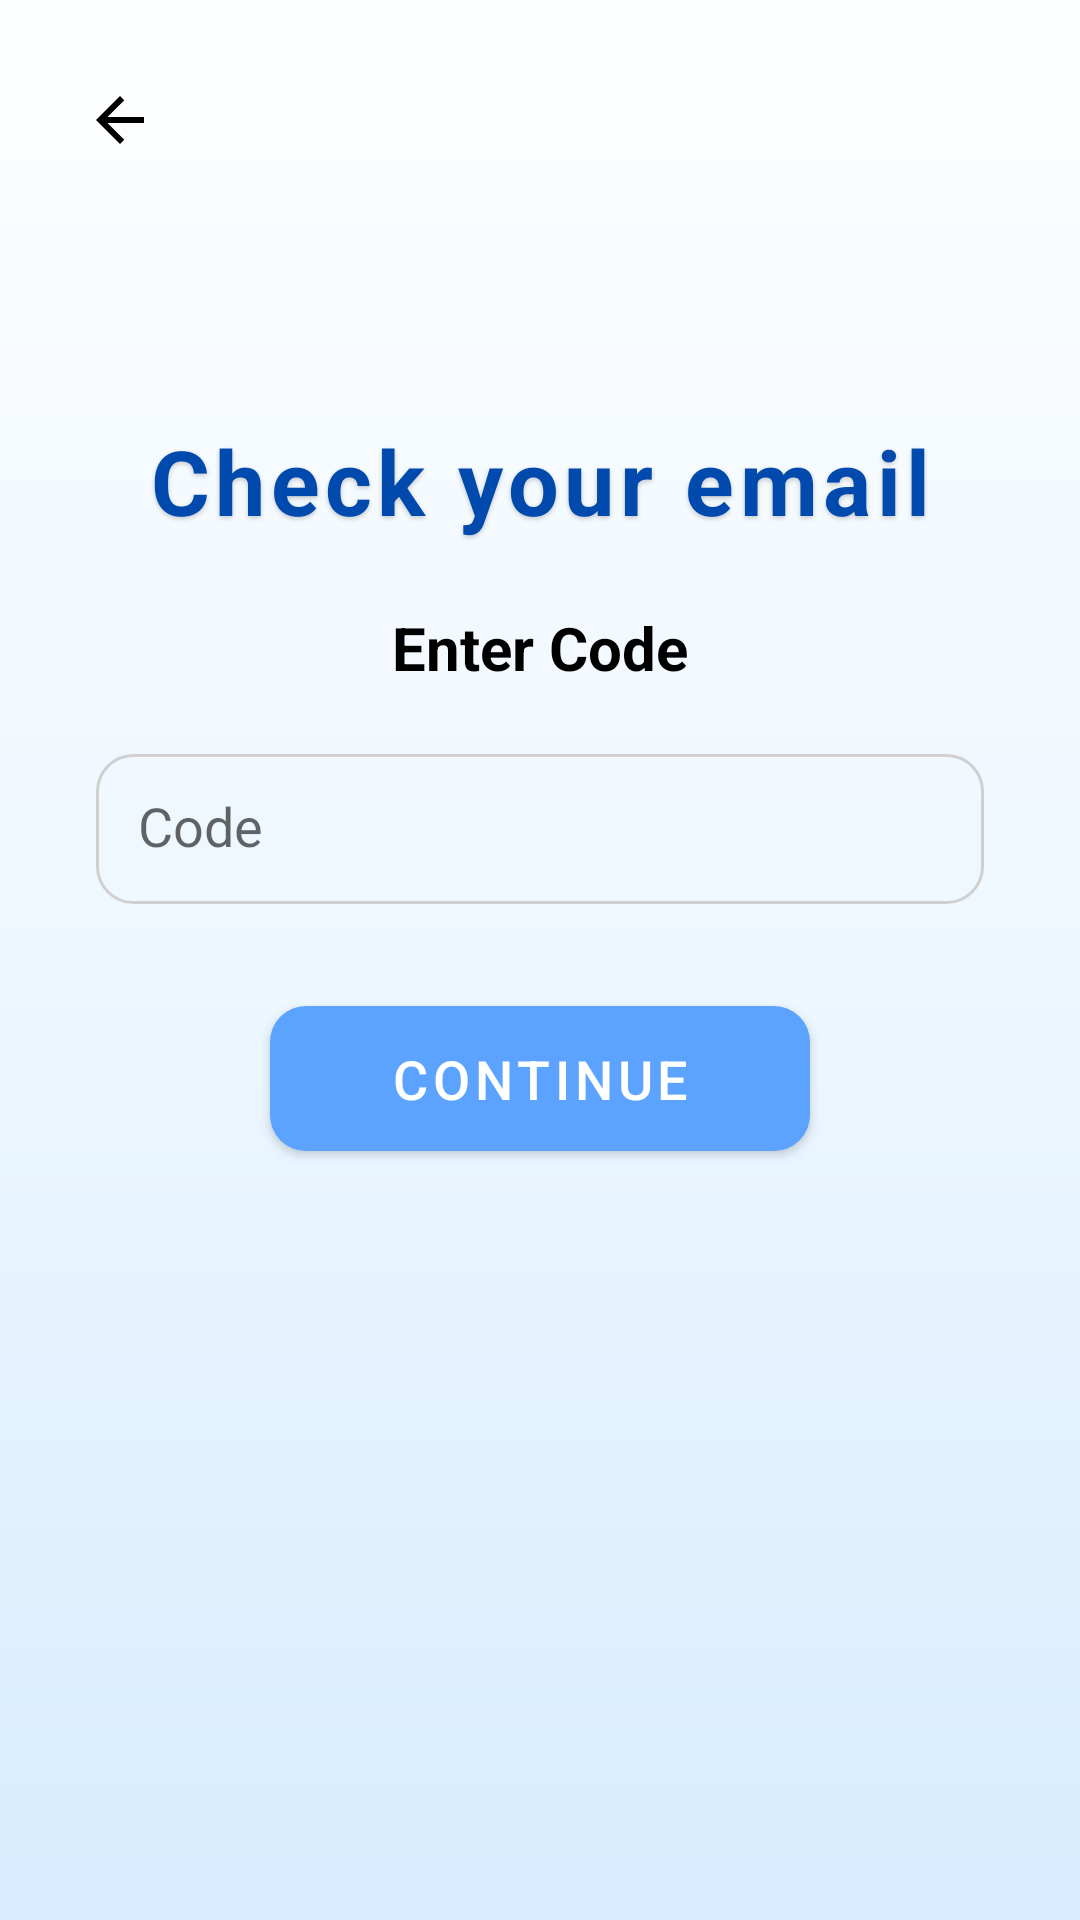

Screen size 1080 x 1920. Icon name, then its center in pixels as (x,y):
Back: (120,120)
